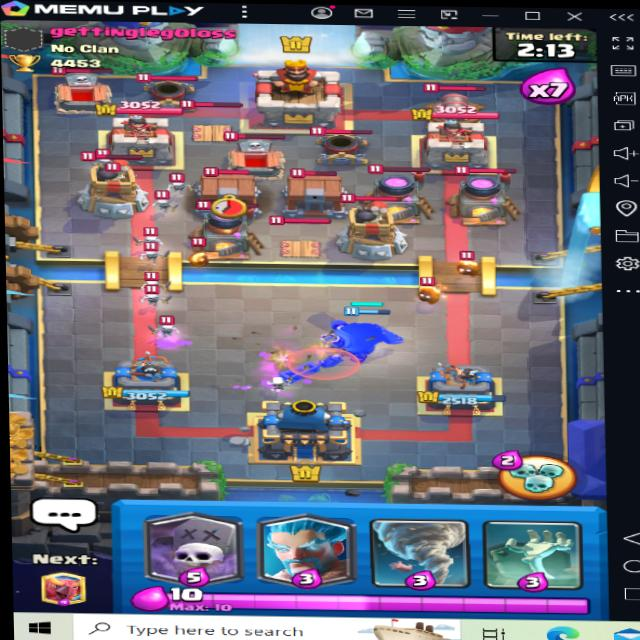bomb-tower: (78, 148, 151, 220), (336, 192, 414, 257)
cannon: (419, 80, 493, 125)
fire-spirit: (415, 274, 453, 306), (450, 246, 486, 277)
furnace: (445, 161, 531, 231), (358, 161, 434, 227), (188, 197, 263, 259)
goblin-cage: (281, 165, 349, 221)
mortar: (137, 63, 206, 110), (308, 124, 372, 168)
skeleton: (152, 308, 185, 341), (129, 232, 160, 260), (141, 244, 173, 270), (139, 285, 170, 308), (147, 194, 178, 217), (166, 172, 196, 194), (141, 271, 165, 292), (92, 145, 117, 165)
tesla-closed: (172, 96, 247, 145), (266, 214, 334, 259)
tombstone: (42, 56, 126, 114), (220, 130, 292, 180)
